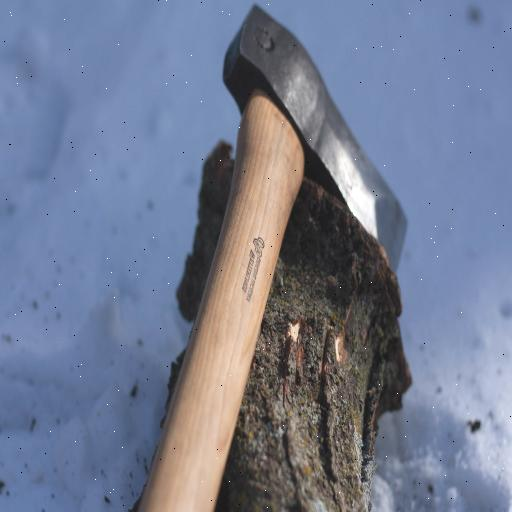Axe: (135, 0, 411, 512)
